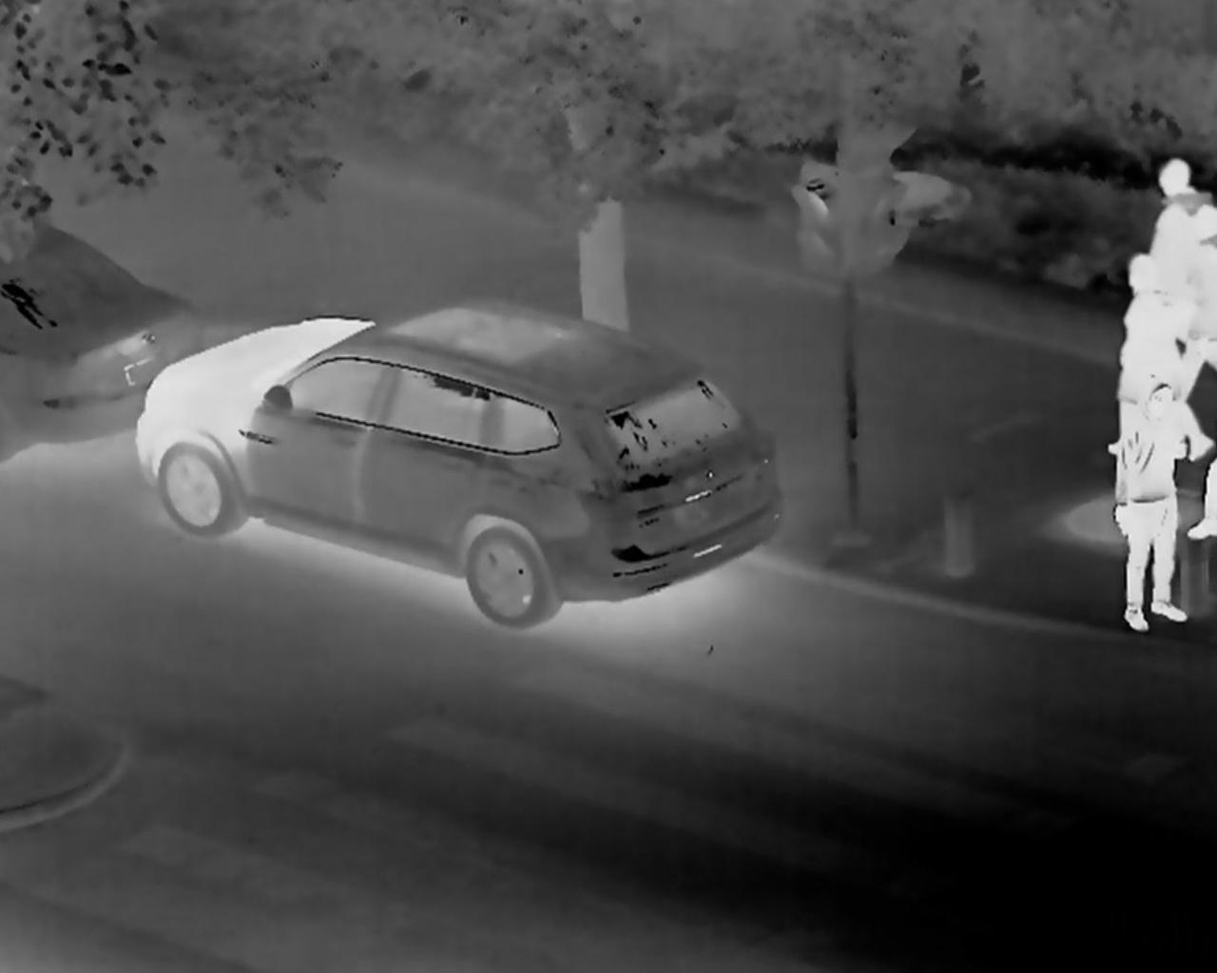person: (1093, 253, 1209, 465), (1109, 371, 1199, 632), (1141, 157, 1217, 371)
